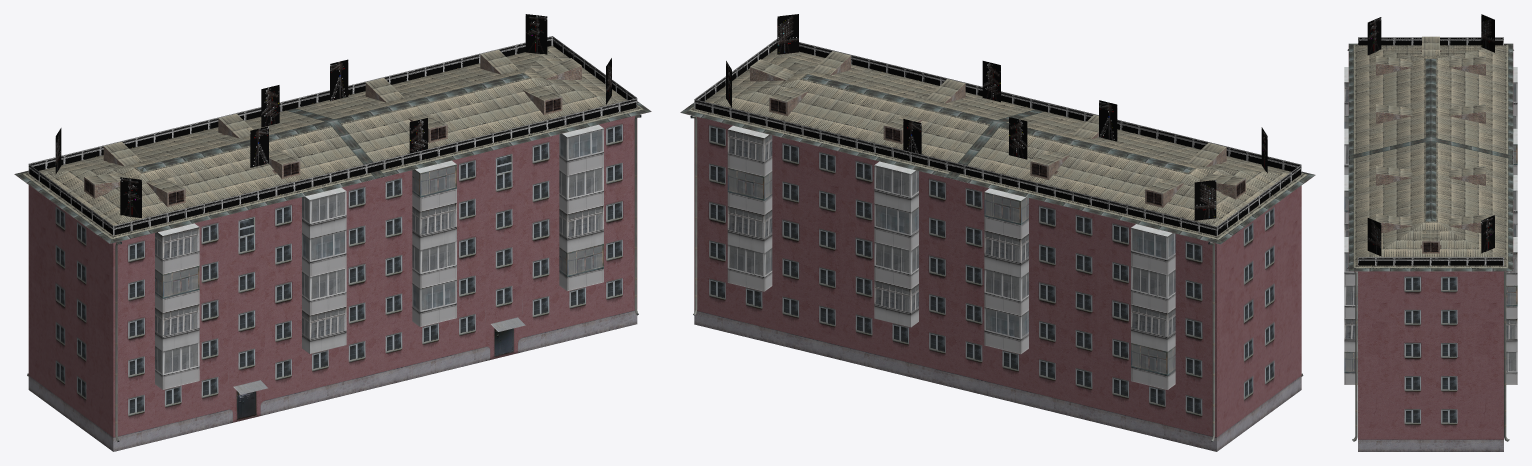
File: rus_build_5et_03d.fbx
3 views of the same model, side by side, from view 1: azimuth 30°, elevation 25°; view 2: azimuth 150°, elevation 25°; view 3: azimuth 270°, elevation 25° (orthographic). The views are drawn at different scales.
Parts seen in each view (by area): view 1: Regroup13, rus_build_dec_01; view 2: Regroup13, rus_build_dec_01; view 3: Regroup13, rus_build_dec_01.
Boxes of the visible parts, x1,y1,x2,y2 form: Regroup13: (14,45,651,451); rus_build_dec_01: (28,14,637,235); Regroup13: (680,48,1315,451); rus_build_dec_01: (694,14,1301,235); Regroup13: (1344,36,1517,451); rus_build_dec_01: (1358,14,1503,265).
Bounding box in the file's own units: 4130 × 1925 × 1330.
